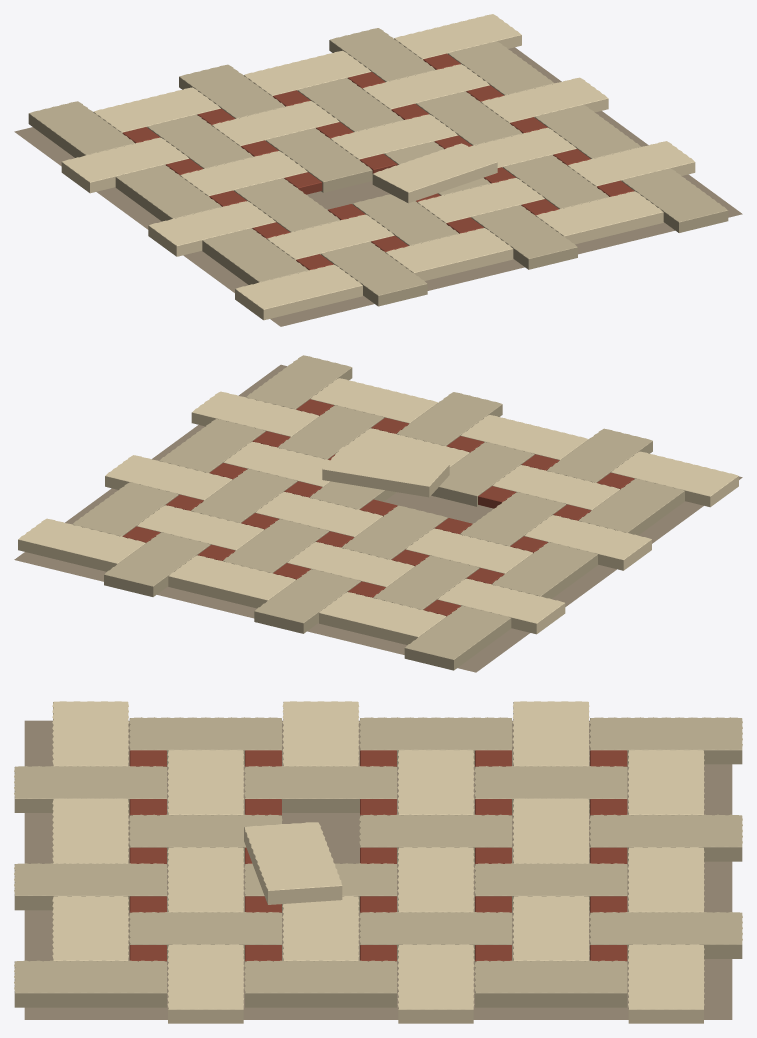
The model's file is terilgan.glb.
The picture shows the model from 3 angles, top to bottom: view 1: azimuth 30°, elevation 25°; view 2: azimuth 150°, elevation 25°; view 3: azimuth 270°, elevation 25°; orthographic projection. The views are drawn at different scales.
Parts seen in each view (by area): view 1: qum, t.013, t.018, t.003, t, t.001, t.004, t.014, t.032, t.050, t.039, t.059 (+26 smaller); view 2: qum, t.018, t.059, t.044, t.030, t.054, t.057, t.047, t.050, t.013, t.032, t.049 (+26 smaller); view 3: qum, t.029, t.001, t.011, t.018, t.035, t.030, t.012, t.002, t.004, t.059, t.057 (+48 smaller).
Boxes of the visible parts, x1,y1,x2,y2 form: qum: (14,47,742,326); t.013: (235,264,362,320); t.018: (372,143,497,203); t.003: (385,228,513,280); t: (536,191,663,244); t.001: (621,168,728,232); t.004: (471,205,577,269); t.014: (321,242,427,306); t.032: (148,201,275,256); t.050: (61,137,188,193); t.039: (266,128,372,192); t.059: (28,101,134,157); qum: (14,364,742,672); t.018: (322,447,449,497); t.059: (404,606,511,670); t.044: (168,555,296,608); t.030: (18,518,145,571); t.054: (319,592,446,644); t.057: (254,569,360,633); t.047: (104,532,210,596); t.050: (437,578,565,634); t.013: (611,451,738,507); t.032: (524,515,651,570); t.049: (491,542,597,598); qum: (24,720,732,1019); t.029: (474,960,627,1007); t.001: (14,960,167,1007); t.011: (244,960,397,1007); t.018: (244,822,342,904); t.035: (244,766,397,812); t.030: (628,944,704,1023); t.012: (397,944,474,1023); t.002: (167,944,243,1023); t.004: (14,863,167,910); t.059: (589,717,742,764); t.057: (589,814,742,861).
Bounding box in the file's own units: 1.71 × 0.078 × 1.71.
